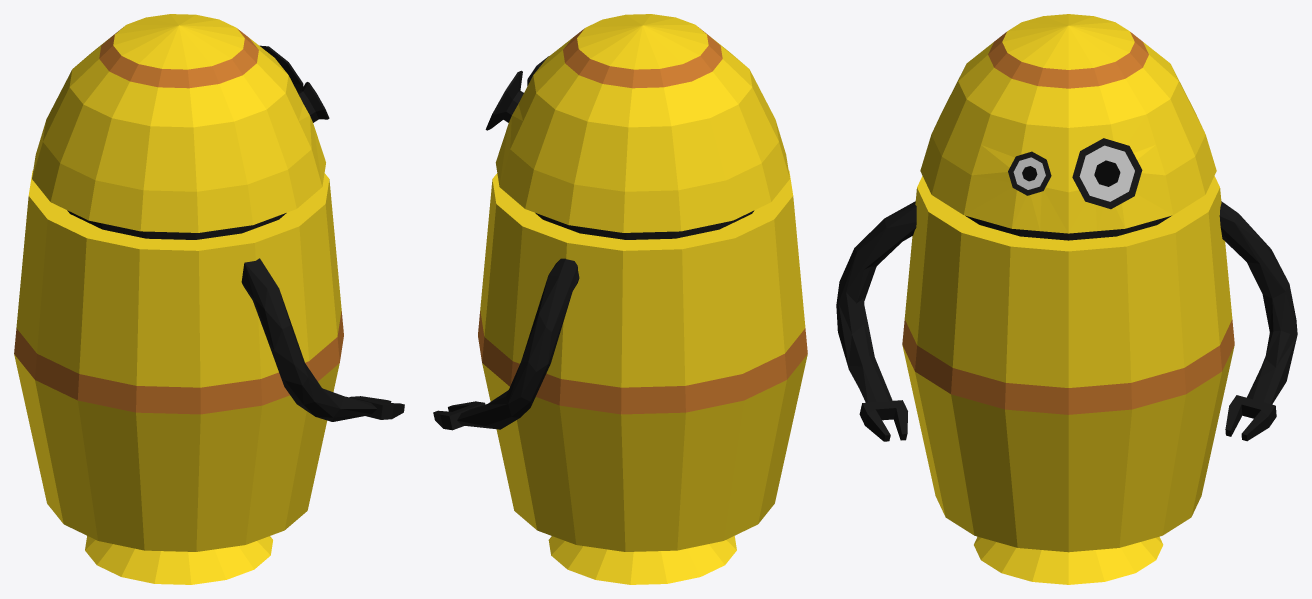
The model's file is yellowBot.dae.
3 renders of one model, left to right at view 1: azimuth 30°, elevation 25°; view 2: azimuth 150°, elevation 25°; view 3: azimuth 270°, elevation 25°, orthographic.
Parts seen in each view (by area): view 1: Cylinder, Circle_002, Cube_001; view 2: Cylinder, Circle_001, Cube; view 3: Cylinder, Circle_002, Circle_001, Cube, Cube_001.
Part boxes in pixels (x1,y1,x2,y2): Cylinder: [14, 14, 343, 584]; Circle_002: [241, 258, 376, 421]; Cube_001: [349, 396, 404, 419]; Cylinder: [478, 14, 807, 584]; Circle_001: [457, 258, 579, 429]; Cube: [433, 401, 485, 430]; Cylinder: [902, 14, 1234, 584]; Circle_002: [836, 201, 916, 402]; Circle_001: [1219, 201, 1297, 404]; Cube: [1225, 395, 1276, 441]; Cube_001: [859, 400, 907, 441].
Size of the model in its own units: 2 by 3.45 by 2.77.
